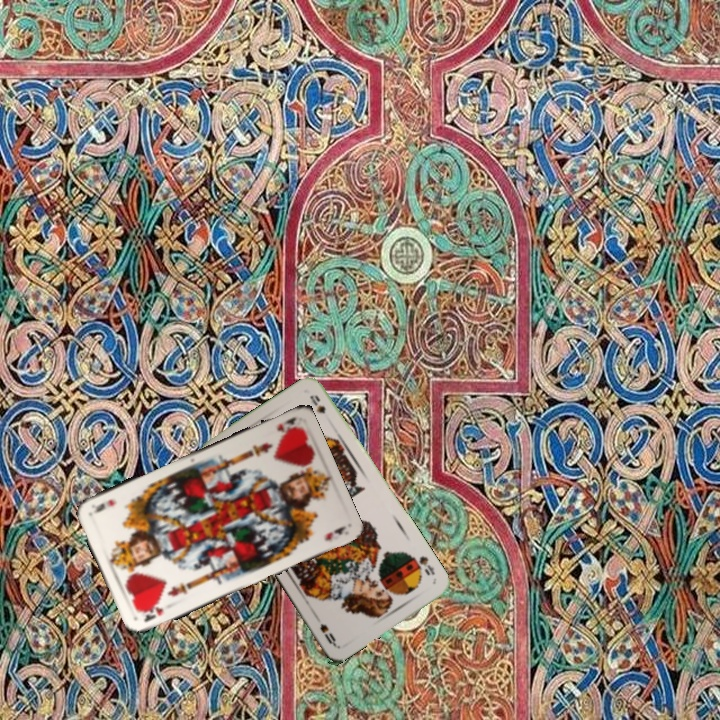HK: (139, 602, 165, 625), (272, 413, 299, 435)
SO: (409, 552, 437, 578)
